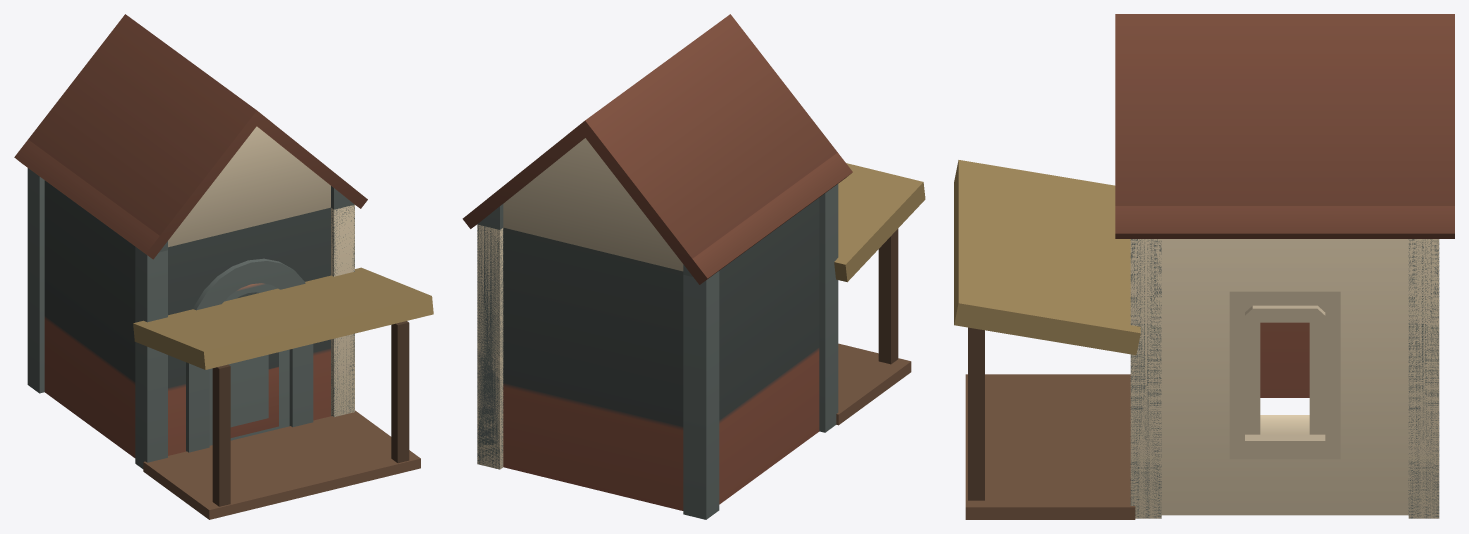
Rendered from home-porch-cabin.glb.
3 views of the same model, side by side, from view 1: azimuth 30°, elevation 25°; view 2: azimuth 150°, elevation 25°; view 3: azimuth 270°, elevation 25° (orthographic). The views are drawn at different scales.
Parts seen in each view (by area): view 1: roof-gable, Original box (×4), wall-wood (×2), wall-wood-door, door, wall-wood-window-small; view 2: wall-wood (×2), roof-gable, Original box (×3), wall-wood-window-small, wall-wood-door; view 3: wall-wood-window-small, roof-gable, Original box (×3), wall-wood (×2), wall-wood-door.
Part boxes in pixels (bbox=[...]): roof-gable: bbox=[14, 14, 367, 259]; Original box (×4): bbox=[133, 267, 433, 519]; wall-wood (×2): bbox=[27, 168, 167, 468]; wall-wood-door: bbox=[135, 205, 354, 467]; door: bbox=[209, 283, 289, 445]; wall-wood-window-small: bbox=[331, 204, 354, 416]; wall-wood (×2): bbox=[477, 184, 838, 519]; roof-gable: bbox=[462, 14, 852, 284]; Original box (×3): bbox=[834, 163, 925, 425]; wall-wood-window-small: bbox=[477, 225, 503, 469]; wall-wood-door: bbox=[819, 185, 838, 432]; wall-wood-window-small: bbox=[1130, 239, 1439, 518]; roof-gable: bbox=[1115, 14, 1454, 238]; Original box (×3): bbox=[954, 160, 1140, 519]; wall-wood (×2): bbox=[1260, 239, 1439, 518]; wall-wood-door: bbox=[1130, 239, 1161, 518].
Bounding box in the file's own units: 1.1 × 1.57 × 1.62.
4 materials, 1 textured.
